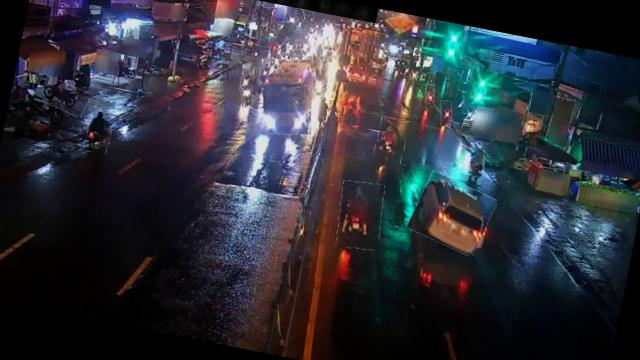Bike: (332, 178, 388, 252), (32, 74, 91, 116), (372, 116, 410, 164), (83, 109, 115, 155), (462, 144, 487, 178), (437, 99, 455, 127), (238, 84, 254, 109), (422, 84, 436, 108), (258, 60, 271, 82), (239, 72, 252, 92)
Bus: (252, 52, 322, 140)
Car: (407, 172, 497, 256)
